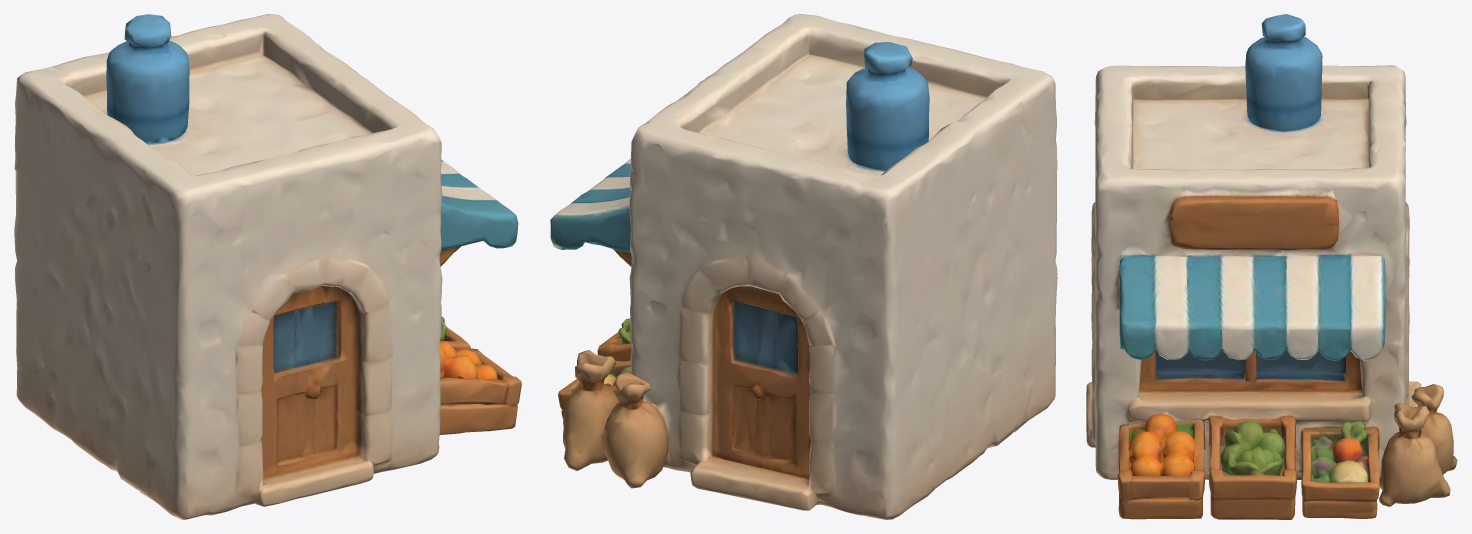
Rendered from shop.glb.
3 renders of one model, left to right at view 1: azimuth 30°, elevation 25°; view 2: azimuth 150°, elevation 25°; view 3: azimuth 270°, elevation 25°, orthographic. The views are drawn at different scales.
Visible parts, largest first — view 1: tripo_node_c7445977-14f6-48e3-9829-e86a9aba6a5d; view 2: tripo_node_c7445977-14f6-48e3-9829-e86a9aba6a5d; view 3: tripo_node_c7445977-14f6-48e3-9829-e86a9aba6a5d.
Part boxes in pixels (x1,y1,x2,y2): tripo_node_c7445977-14f6-48e3-9829-e86a9aba6a5d: (14,14,521,519); tripo_node_c7445977-14f6-48e3-9829-e86a9aba6a5d: (550,14,1057,519); tripo_node_c7445977-14f6-48e3-9829-e86a9aba6a5d: (1086,14,1457,519).
Bounding box in the file's own units: 0.9098 × 1 × 0.8916.
1 material, 1 textured.
